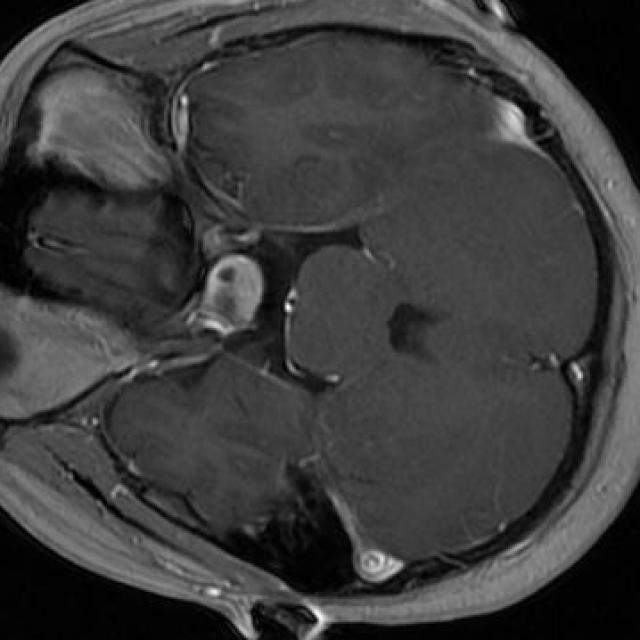pituitary: (198, 255, 266, 339)
